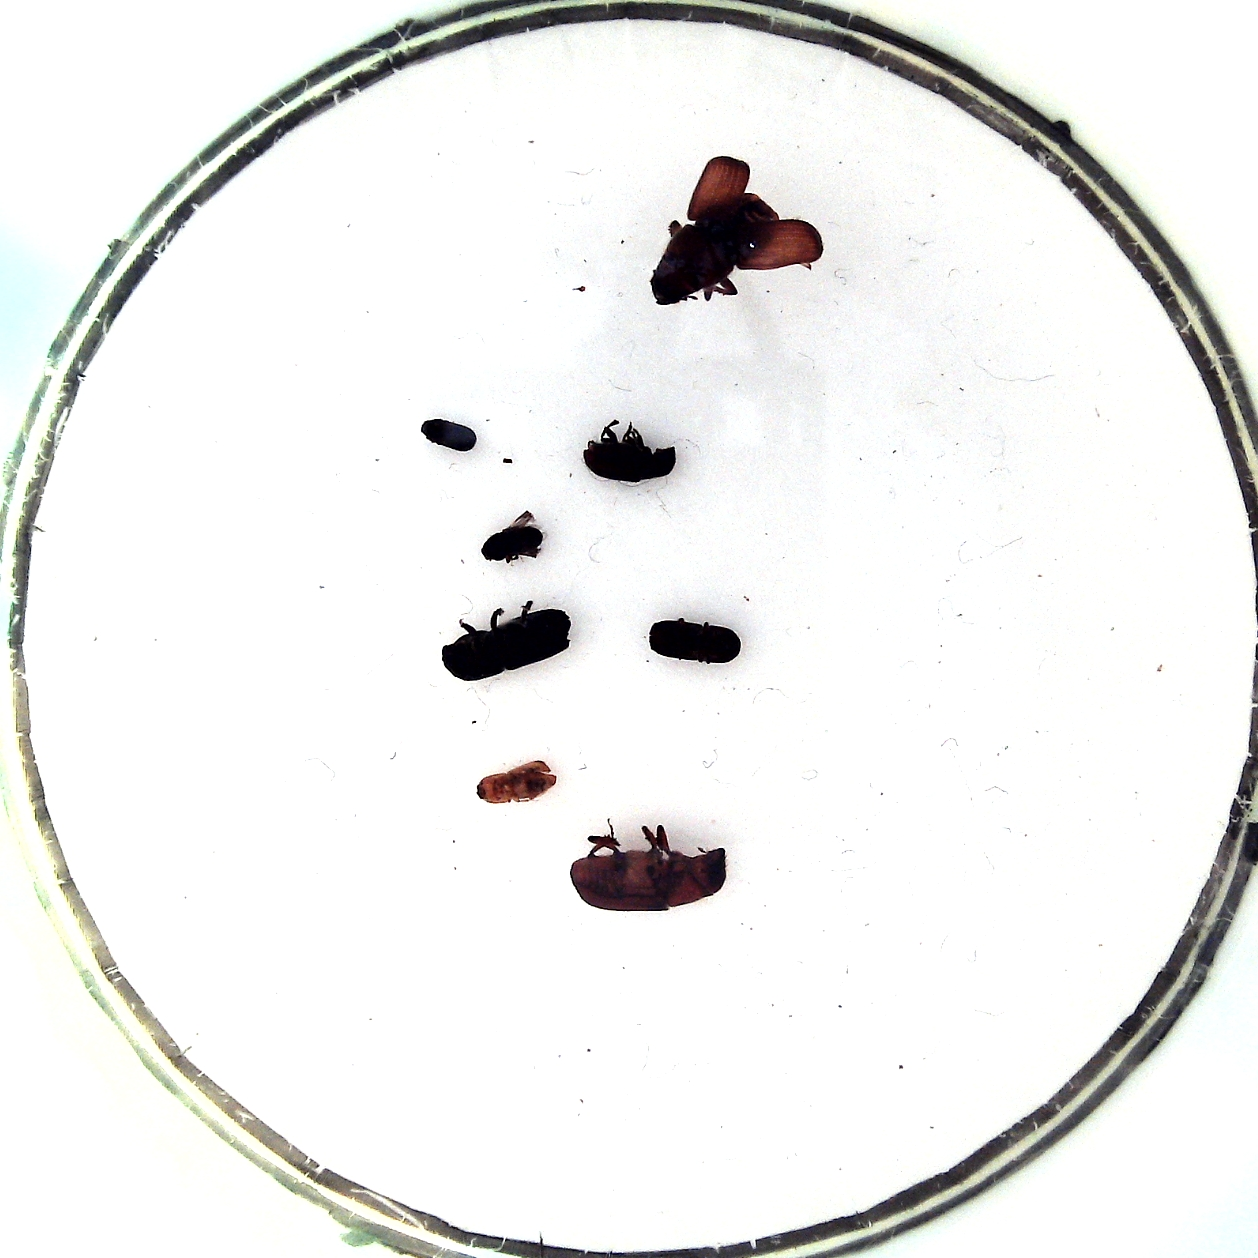Boerner: (442, 608, 571, 681)
Leconte: (650, 192, 779, 306), (569, 847, 727, 911)
acuminatus: (482, 525, 543, 561)
armandi: (583, 439, 677, 480)
coleoptera: (475, 759, 555, 804), (422, 419, 478, 450)
linnaeus: (649, 620, 741, 665)
